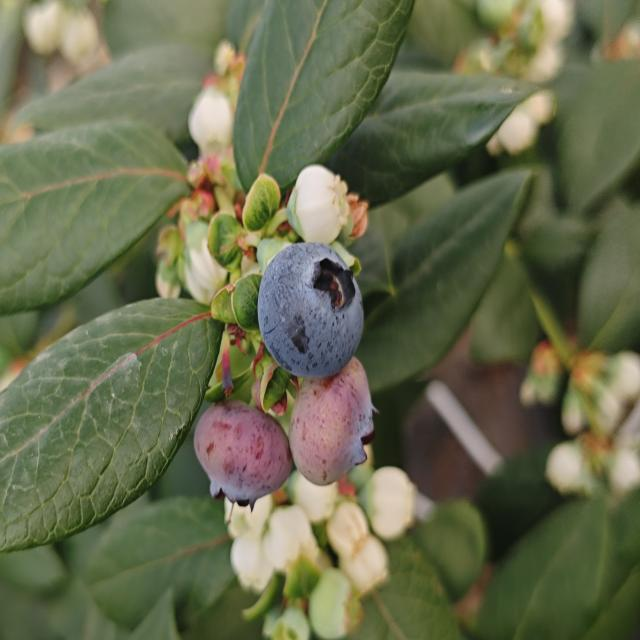ripe: (250, 232, 374, 386)
